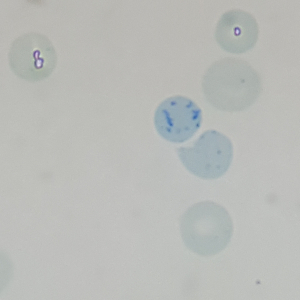aggregate reticulocyte: (151, 95, 204, 145)
erythrocyte: (176, 199, 234, 260), (5, 31, 59, 84), (212, 9, 261, 56)
punctate reticulocyte: (199, 57, 262, 114), (176, 128, 235, 181)
